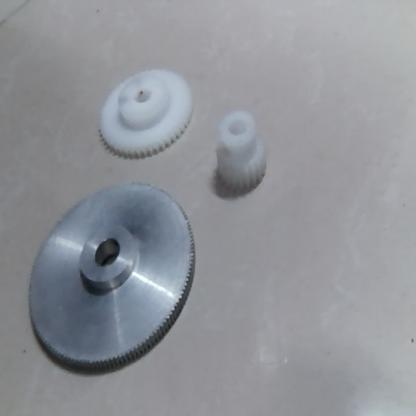FOD: (21, 180, 198, 366), (91, 70, 195, 174), (207, 110, 273, 200)
